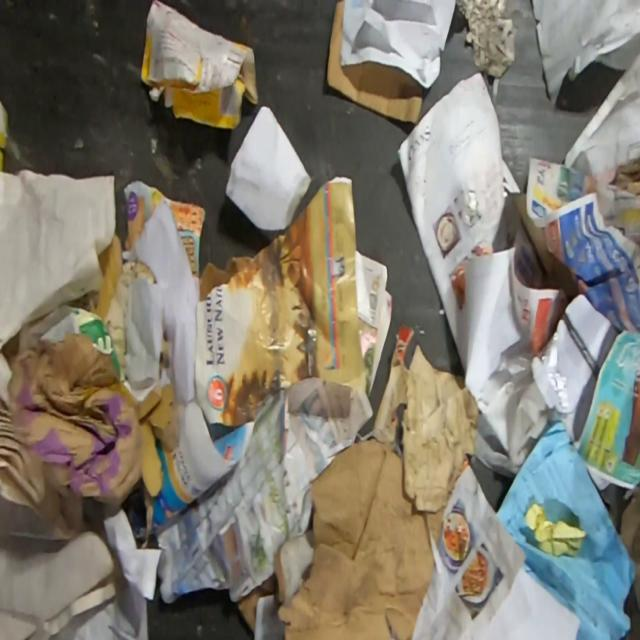cardboard: (235, 436, 446, 640), (356, 320, 481, 510), (141, 0, 258, 129), (68, 232, 156, 382), (327, 0, 425, 125), (102, 381, 179, 500), (68, 304, 120, 382), (200, 255, 252, 302)
